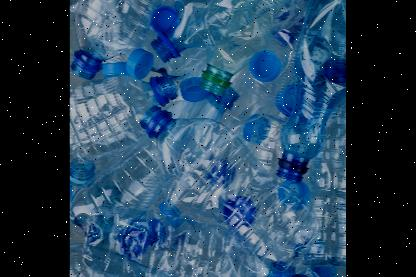Plastic Bottle: (271, 0, 346, 179), (70, 70, 184, 163), (70, 0, 195, 80), (198, 0, 304, 94), (146, 0, 303, 60), (70, 236, 263, 277), (321, 80, 346, 268)
